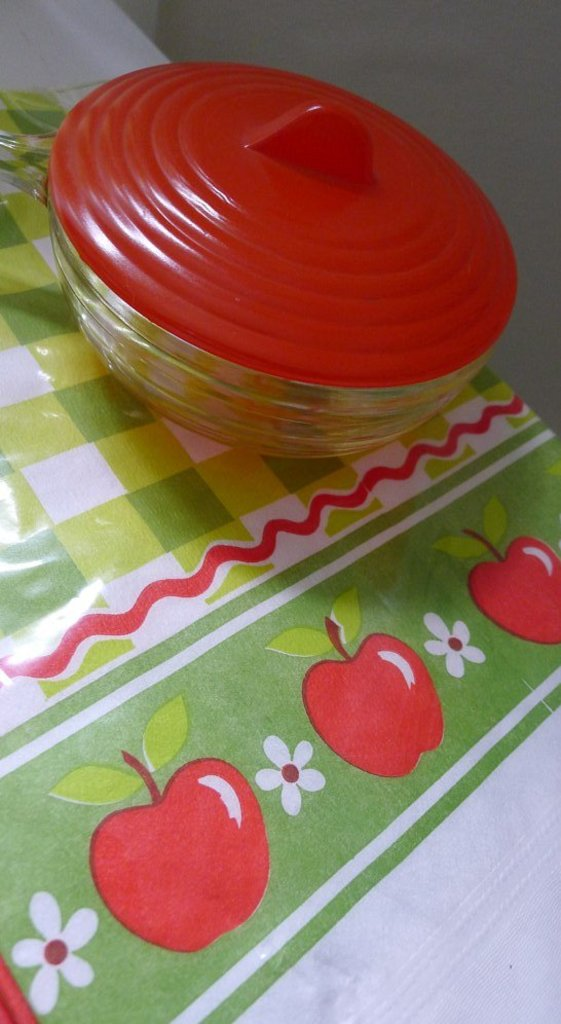Apple: (95, 769, 275, 963), (293, 614, 444, 778), (465, 524, 559, 644)
